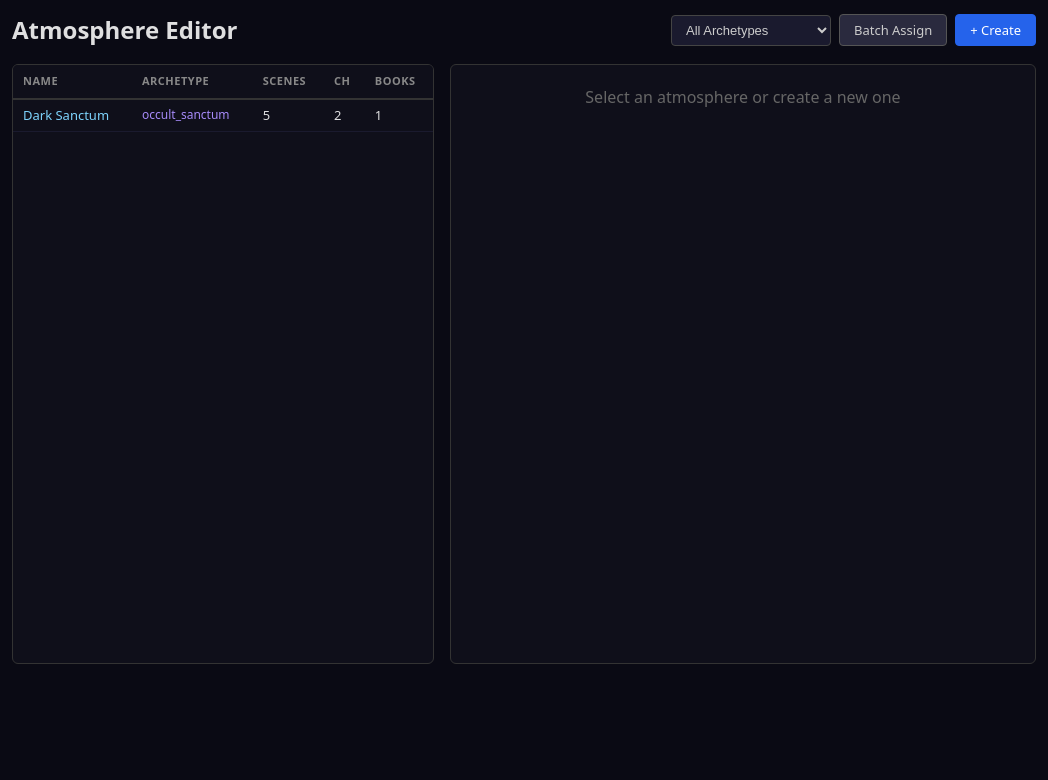
Test: AtmosphereEditor › enters create mode when clicking + Create
The image size is (1048, 780).
Expected: the text "Dark Sanctum" is shown, [13,98,132,132]
Click the button "+ Create".
click(996, 30)  # box [955,14,1036,46]
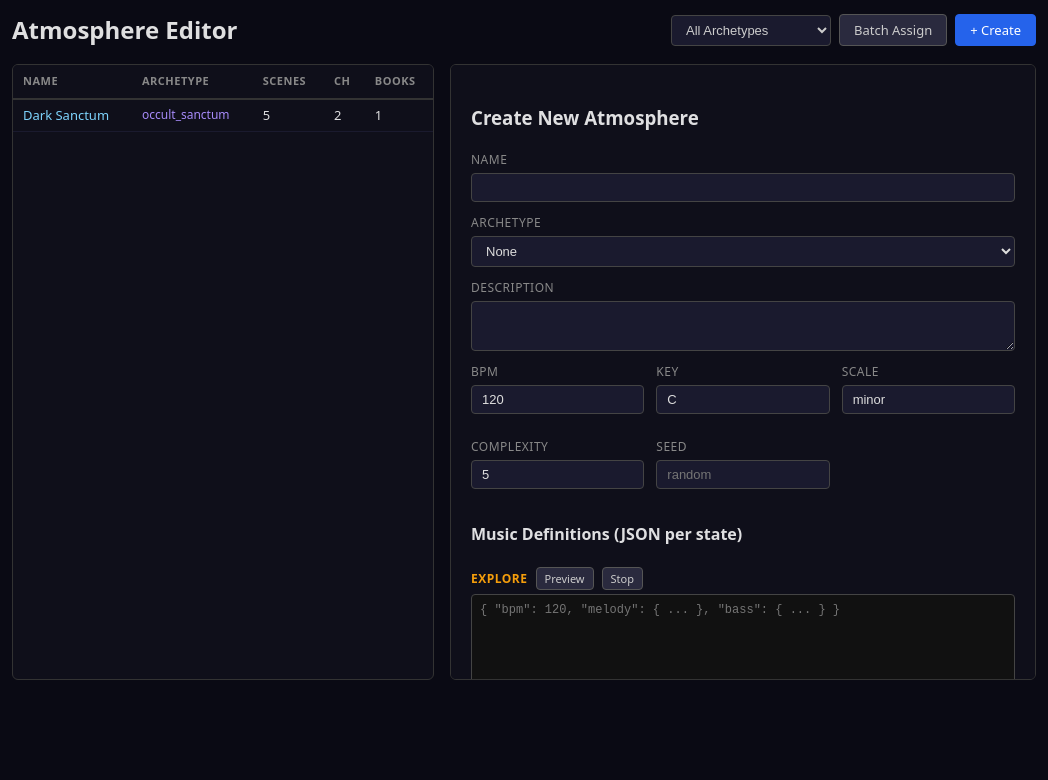
Expected: the heading "Create New Atmosphere" is shown, [471,105,699,130]
